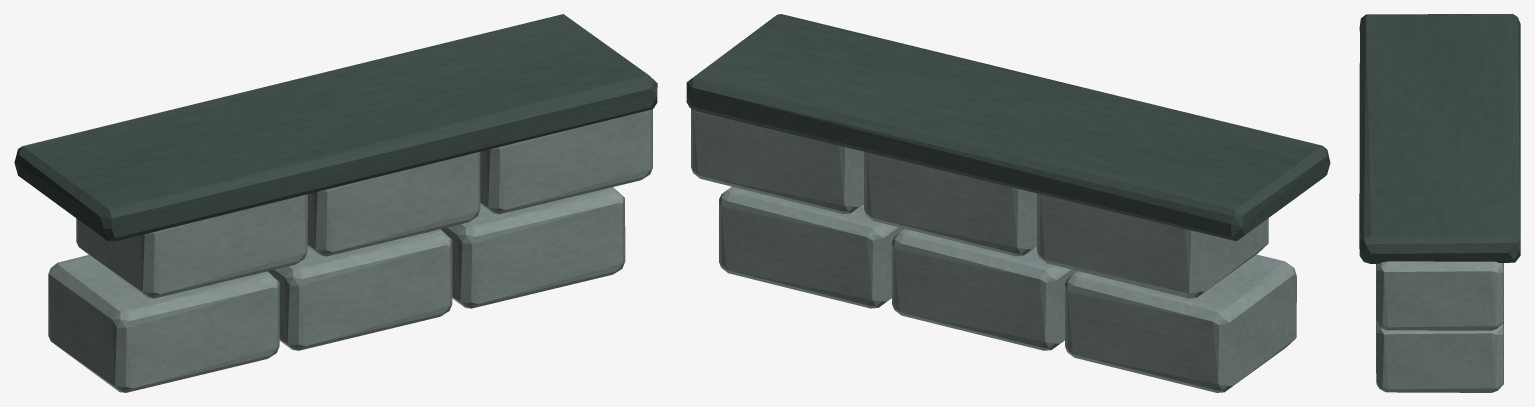
The model's file is SM_bank_segment_LOD2.fbx.
3 renders of one model, left to right at view 1: azimuth 30°, elevation 25°; view 2: azimuth 150°, elevation 25°; view 3: azimuth 270°, elevation 25°, orthographic. The views are drawn at different scales.
Visible parts, largest first — view 1: SM_bank_segment_LOD2; view 2: SM_bank_segment_LOD2; view 3: SM_bank_segment_LOD2.
Part boxes in pixels (x1,y1,x2,y2): SM_bank_segment_LOD2: (14, 14, 657, 392); SM_bank_segment_LOD2: (686, 14, 1330, 392); SM_bank_segment_LOD2: (1359, 14, 1520, 392).
Bounding box in the file's own units: 2.01 × 0.5956 × 0.6789.
